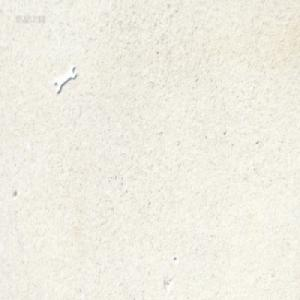Wrench: (52, 63, 75, 94)
